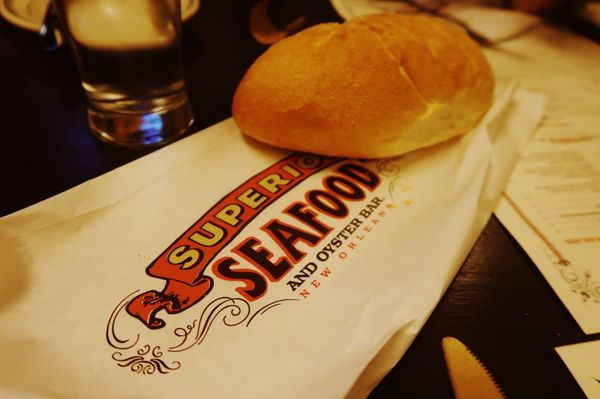pizza: (46, 1, 198, 150)
